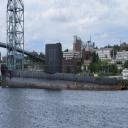submarine: (2, 44, 126, 90)
